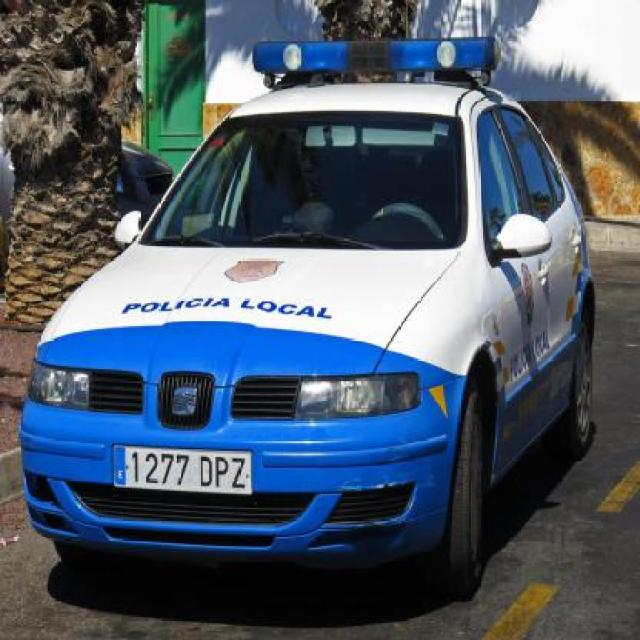License-Plates: (113, 444, 253, 495)
